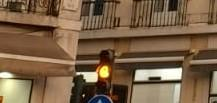yellow_light: (95, 50, 115, 95)
